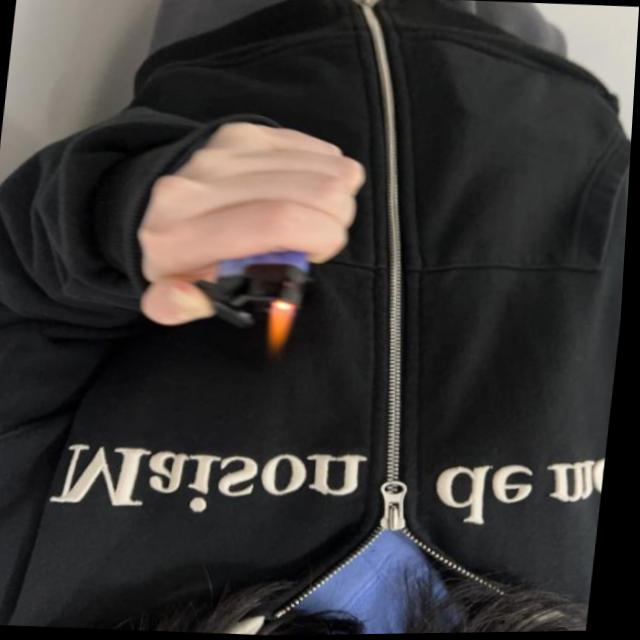Fire: (265, 300, 305, 356)
